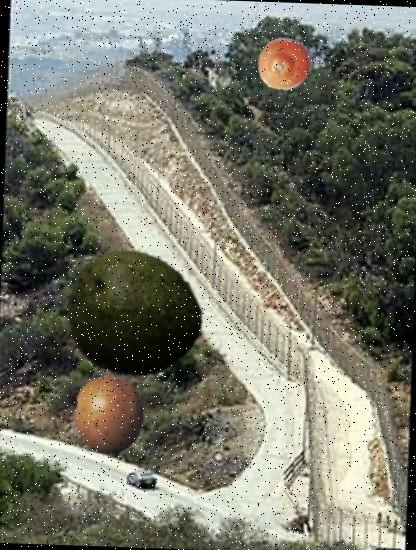Avocado: (62, 244, 203, 385)
Granadilla: (56, 350, 164, 458)
Tangelo: (256, 36, 314, 94)
